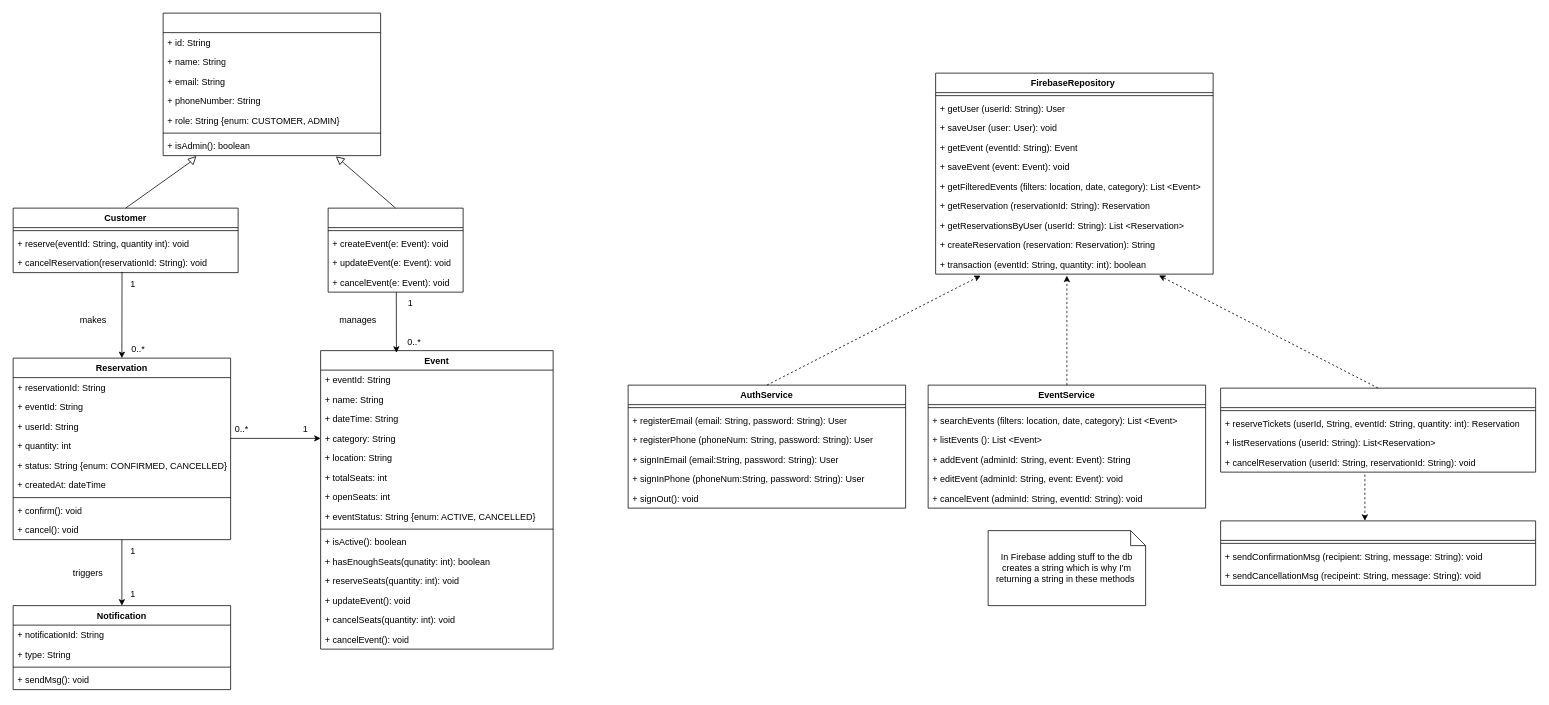
The diagram is 1549 pixels wide and 705 high, and some of its shapes have lost their labels. Here are the shapes that lost their labels. From the top down, the box of each, then its label:
(162, 12, 381, 156): User
(327, 207, 463, 292): Admin
(1220, 387, 1536, 472): ReservationService
(1220, 520, 1536, 585): NotifService
